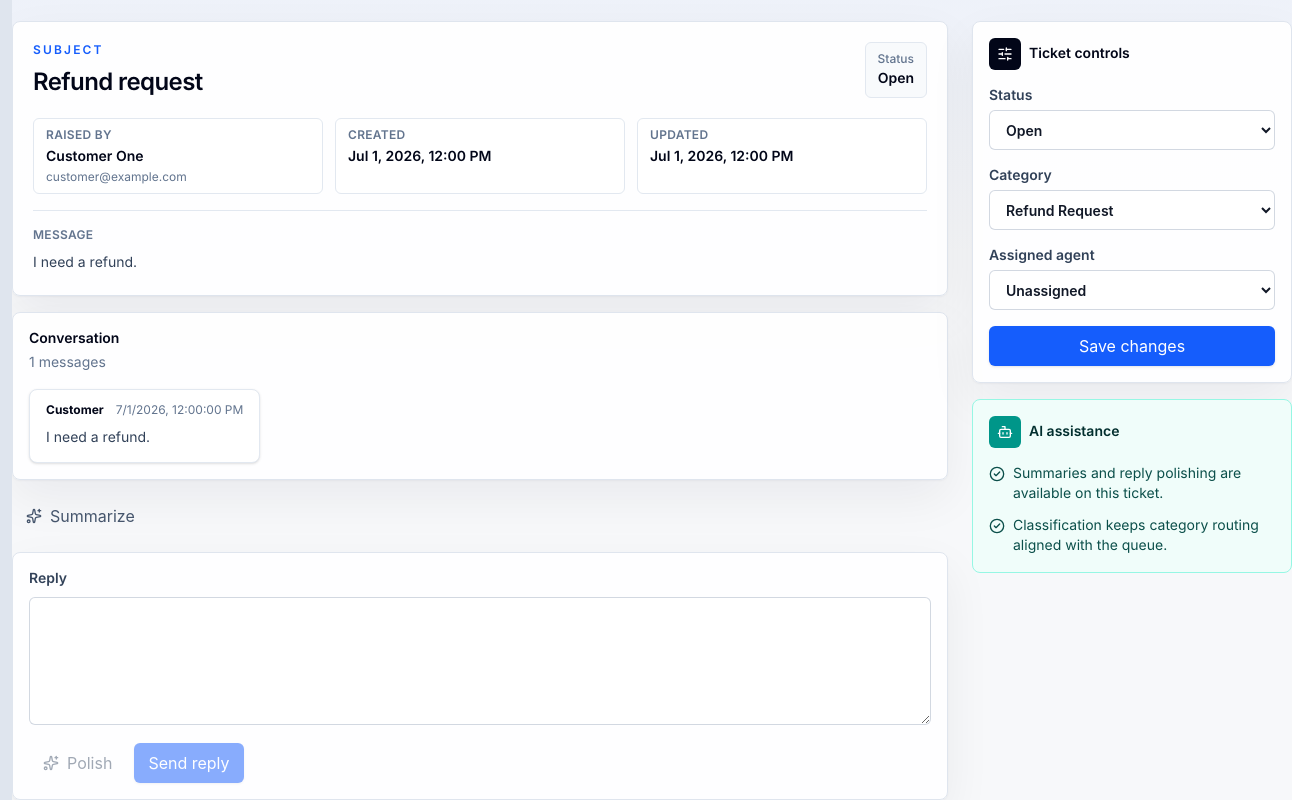
TicketDetailPage › enables sending after typing a reply
(page scrolled)
Expected: the heading "Refund request" is shown, [33,66,203,98]
Expected: the button "Send reply" is disabled, [134,743,244,783]
Type "We can help with that." into the text box labelled "Reply" at (480, 661), box [29,597,931,725]
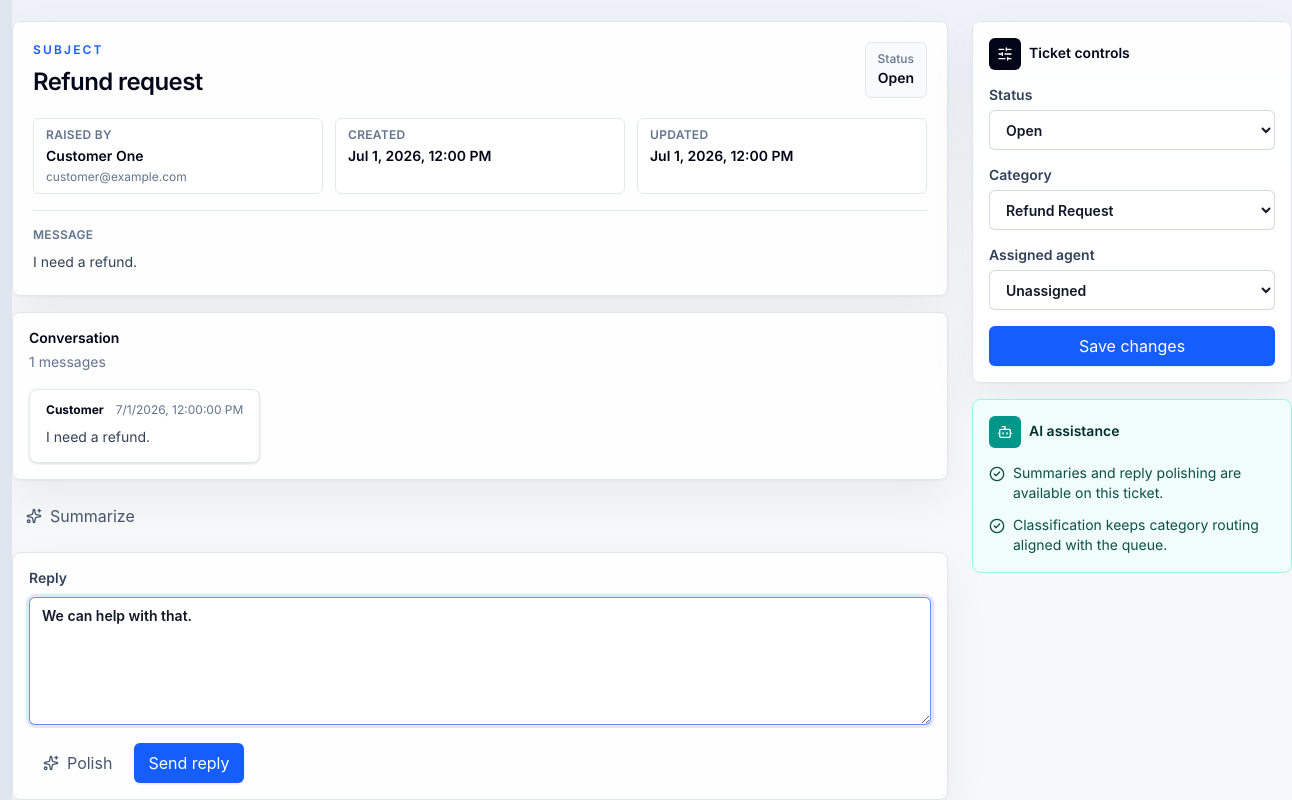
Expected: the button "Send reply" is enabled, [134,743,244,783]
